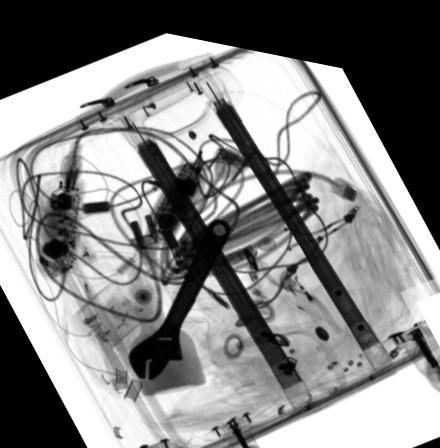Wrench: (126, 210, 231, 374)
